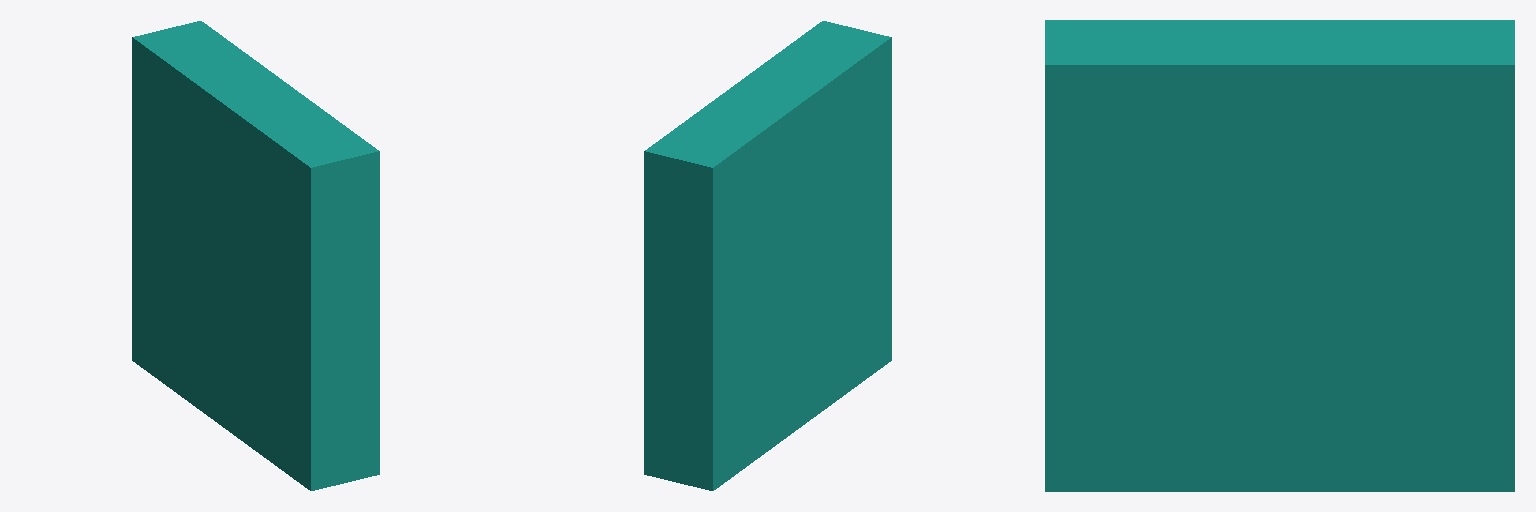
URDF robot description (panda):
<?xml version='1.0' encoding='utf-8'?>
<robot name="panda">

    <link name="link0">
      <inertial>
        <origin xyz="0 0 0.05" rpy="0 0 0" />
        <mass value="4" />
        <inertia ixx="0.4" iyy="0.4" izz="0.4" ixy="0" ixz="0" iyz="0" />
      </inertial>
      <visual>
        <geometry>
          <mesh filename="../../../Model/meshes/visual/link0.obj"/>
        </geometry>
      </visual>
<!--       <collision>
        <geometry>
          <mesh filename="../../../Model/meshes/collision/link0.obj"/>
        </geometry>
      </collision> -->
    </link>
    <link name="link1">
      <inertial>
        <origin xyz="0 0 -0.07" rpy="0 -0 0" />
        <mass value="3" />
        <inertia ixx="0.3" iyy="0.3" izz="0.3" ixy="0" ixz="0" iyz="0" />
      </inertial>
      <visual>
        <geometry>
          <mesh filename="../../../Model/meshes/visual/link1.obj"/>
        </geometry>
      </visual>
      <!-- <collision>
        <geometry>
          <mesh filename="../../../Model/meshes/collision/link1.obj"/>
        </geometry>
      </collision> -->
    </link>
    <link name="link2">
      <inertial>
        <origin xyz="0 -0.1 0" rpy="0 -0 0" />
        <mass value="3" />
        <inertia ixx="0.3" iyy="0.3" izz="0.3" ixy="0" ixz="0" iyz="0" />
      </inertial>
      <visual>
        <geometry>
          <mesh filename="../../../Model/meshes/visual/link2.obj"/>
        </geometry>
      </visual>
      <!-- <collision>
        <geometry>
          <mesh filename="../../../Model/meshes/collision/link2.obj"/>
        </geometry>
      </collision> -->
    </link>
    <link name="link3">
      <inertial>
        <origin xyz="0.04 0 -0.05" rpy="0 -0 0" />
        <mass value="2" />
        <inertia ixx="0.2" iyy="0.2" izz="0.2" ixy="0" ixz="0" iyz="0" />
      </inertial>
      <visual>
        <geometry>
          <mesh filename="../../../Model/meshes/visual/link3.obj"/>
        </geometry>
      </visual>
      <!-- <collision>
        <geometry>
          <mesh filename="../../../Model/meshes/collision/link3.obj"/>
        </geometry>
      </collision> -->
    </link>
    <link name="link4">
      <inertial>
        <origin xyz="-0.04 0.05 0" rpy="0 -0 0" />
        <mass value="2" />
        <inertia ixx="0.2" iyy="0.2" izz="0.2" ixy="0" ixz="0" iyz="0" />
      </inertial>
      <visual>
        <geometry>
          <mesh filename="../../../Model/meshes/visual/link4.obj"/>
        </geometry>
      </visual>
<!--       <collision>
        <geometry>
          <mesh filename="../../../Model/meshes/collision/link4.obj"/>
        </geometry>
      </collision> -->
    </link>
    <link name="link5">
      <inertial>
        <origin xyz="0 0 -0.15" rpy="0 -0 0" />
        <mass value="2" />
        <inertia ixx="0.2" iyy="0.2" izz="0.2" ixy="0" ixz="0" iyz="0" />
      </inertial>
      <visual>
        <geometry>
          <mesh filename="../../../Model/meshes/visual/link5.obj"/>
        </geometry>
      </visual>
<!--       <collision>
        <geometry>
          <mesh filename="../../../Model/meshes/collision/link5.obj"/>
        </geometry>
      </collision> -->
    </link>
    <link name="link6">
      <inertial>
        <origin xyz="0.06 0 0" rpy="0 -0 0" />
        <mass value="1.5" />
        <inertia ixx="0.1" iyy="0.1" izz="0.1" ixy="0" ixz="0" iyz="0" />
      </inertial>
      <visual>
        <geometry>
          <mesh filename="../../../Model/meshes/visual/link6.obj"/>
        </geometry>
      </visual>
      <!-- <collision>
        <geometry>
          <mesh filename="../../../Model/meshes/collision/link6.obj"/>
        </geometry>
      </collision> -->
    </link>
    <link name="link7">
      <inertial>
        <origin xyz="0 0 0.17" rpy="0 -0 0" />
        <mass value="1.8" />
        <inertia ixx="0.09" iyy="0.05" izz="0.07" ixy="0" ixz="0" iyz="0" />
      </inertial>
      <visual>
        <geometry>
          <mesh filename="../../../Model/meshes/visual/link7.obj"/>
        </geometry>
      </visual>
      <!-- <collision>
        <geometry>
          <mesh filename="../../../Model/meshes/collision/link7.obj"/>
        </geometry>
      </collision> -->
      <visual>
        <origin xyz="0 0 0.115" rpy="0 0 0" />
        <geometry>
          <box size="0.09 0.09 0.02"/>
        </geometry>
        <material name="material_ee">
          <color rgba="0.17 0.68 0.63 1.0" />
        </material>
      </visual>
      <collision>
        <origin xyz="0 0 0.115" rpy="0 0 0" />
        <geometry>
          <box size="0.09 0.09 0.02"/>
        </geometry>
      </collision>
    </link>
    <joint name="joint1" type="revolute">
      <safety_controller k_position="100.0" k_velocity="40.0" soft_lower_limit="-2.8973" soft_upper_limit="2.8973"/>
      <origin rpy="0 0 0" xyz="0 0 0.333"/>
      <parent link="link0"/>
      <child link="link1"/>
      <axis xyz="0 0 1"/>
      <limit effort="87" lower="-2.8973" upper="2.8973" velocity="2.1750"/>
    </joint>
    <joint name="joint2" type="revolute">
      <safety_controller k_position="100.0" k_velocity="40.0" soft_lower_limit="-1.7628" soft_upper_limit="1.7628"/>
      <origin rpy="-1.57079632679 0 0" xyz="0 0 0"/>
      <parent link="link1"/>
      <child link="link2"/>
      <axis xyz="0 0 1"/>
      <calibration falling="-45.0" />
      <limit effort="87" lower="-1.7628" upper="1.7628" velocity="2.1750"/>
    </joint>
    <joint name="joint3" type="revolute">
      <safety_controller k_position="100.0" k_velocity="40.0" soft_lower_limit="-2.8973" soft_upper_limit="2.8973"/>
      <origin rpy="1.57079632679 0 0" xyz="0 -0.316 0"/>
      <parent link="link2"/>
      <child link="link3"/>
      <axis xyz="0 0 1"/>
      <limit effort="87" lower="-2.8973" upper="2.8973" velocity="2.1750"/>
    </joint>
    <joint name="joint4" type="revolute">
      <safety_controller k_position="100.0" k_velocity="40.0" soft_lower_limit="-3.0718" soft_upper_limit="-0.0698"/>
      <origin rpy="1.57079632679 0 0" xyz="0.0825 0 0"/>
      <parent link="link3"/>
      <child link="link4"/>
      <axis xyz="0 0 1"/>
      <calibration falling="-125.0" />
      <limit effort="87" lower="-3.0718" upper="-0.0698" velocity="2.1750"/>
    </joint>
    <joint name="joint5" type="revolute">
      <safety_controller k_position="100.0" k_velocity="40.0" soft_lower_limit="-2.8973" soft_upper_limit="2.8973"/>
      <origin rpy="-1.57079632679 0 0" xyz="-0.0825 0.384 0"/>
      <parent link="link4"/>
      <child link="link5"/>
      <axis xyz="0 0 1"/>
      <limit effort="12" lower="-2.8973" upper="2.8973" velocity="2.6100"/>
    </joint>
    <joint name="joint6" type="revolute">
      <safety_controller k_position="100.0" k_velocity="40.0" soft_lower_limit="-0.0175" soft_upper_limit="3.7525"/>
      <origin rpy="1.57079632679 0 0" xyz="0 0 0"/>
      <parent link="link5"/>
      <child link="link6"/>
      <axis xyz="0 0 1"/>
      <calibration falling="80.0" />
      <limit effort="12" lower="-0.0175" upper="3.7525" velocity="2.6100"/>
    </joint>
    <joint name="joint7" type="revolute">
      <safety_controller k_position="100.0" k_velocity="40.0" soft_lower_limit="-2.8973" soft_upper_limit="2.8973"/>
      <origin rpy="1.57079632679 0 0" xyz="0.088 0 0"/>
      <parent link="link6"/>
      <child link="link7"/>
      <axis xyz="0 0 1"/>
      <limit effort="12" lower="-2.8973" upper="2.8973" velocity="2.6100"/>
    </joint>
</robot>

--- What the picture shows (computed from the rendered views, not written in the file) ---
3 views of the same robot in one strip: view 1: azimuth 30°, elevation 25°; view 2: azimuth 150°, elevation 25°; view 3: azimuth 270°, elevation 25° (orthographic).
Model panda with 8 links and 7 joints (7 revolute), rooted at link0, posed all joints at 0 but 1 set to mid-range because 0 is outside their limits (joint4 = -1.57).
Visible links, largest first — view 1: link7; view 2: link7; view 3: link7.
Link boxes in pixels (box(x1,y1,x2,y2)): link7: box(132, 21, 379, 490); link7: box(644, 21, 891, 490); link7: box(1045, 20, 1514, 491).
Bounding box of the posed robot: 0.02 × 0.09 × 0.09 m (x, y, z).
Geometry: only primitive shapes (box / cylinder / sphere) drawn; not drawn: 8 mesh visuals (reference in a form the renderer does not follow).